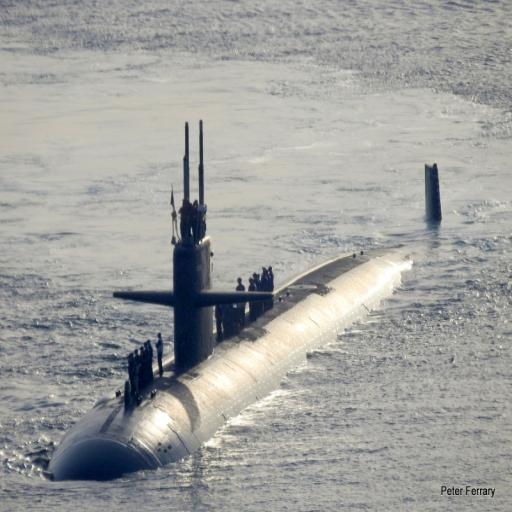submarine: (44, 119, 442, 484)
